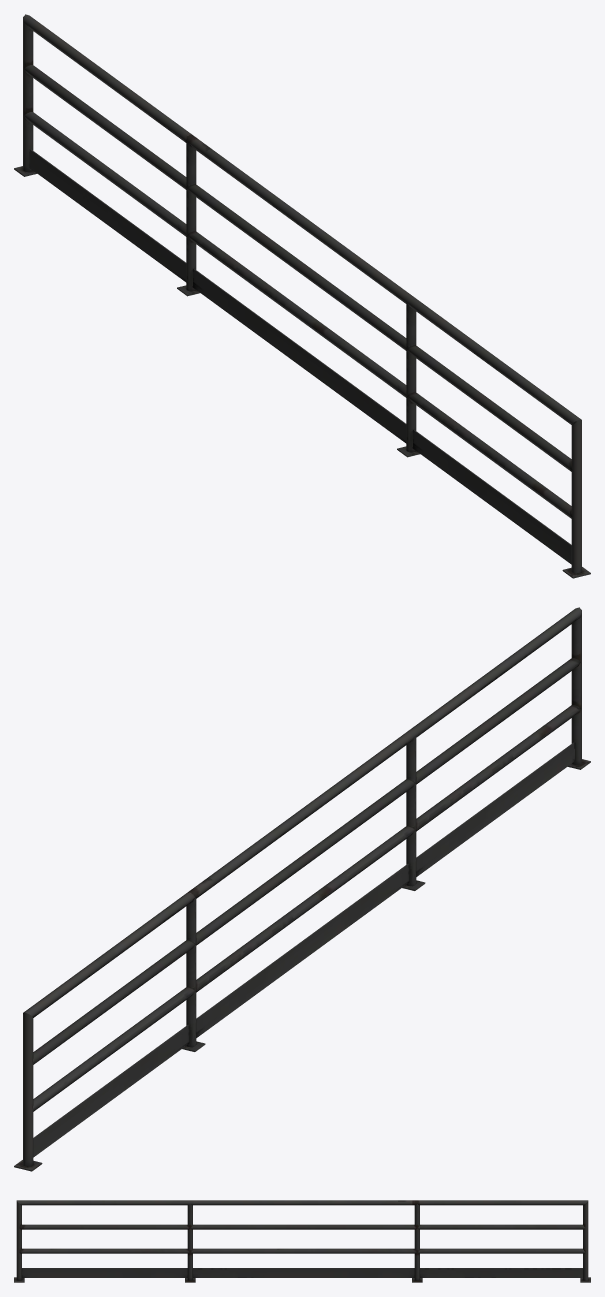
3 renders of one model, top to bottom at view 1: azimuth 30°, elevation 25°; view 2: azimuth 150°, elevation 25°; view 3: azimuth 270°, elevation 25°, orthographic. The views are drawn at different scales.
Visible parts, largest first — view 1: body0_model0_lod0_mesh0; view 2: body0_model0_lod0_mesh0; view 3: body0_model0_lod0_mesh0.
Boxes of the visible parts, box(x1,y1,x2,y2) form: body0_model0_lod0_mesh0: box(14, 14, 590, 578); body0_model0_lod0_mesh0: box(14, 607, 590, 1171); body0_model0_lod0_mesh0: box(14, 1200, 590, 1282).
Size of the model in its own units: 4.01 by 32.99 by 216.
Materials: 1 (1 with a texture image).
